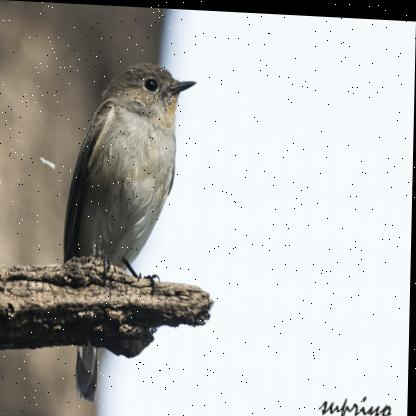Burung: (63, 58, 197, 405)
